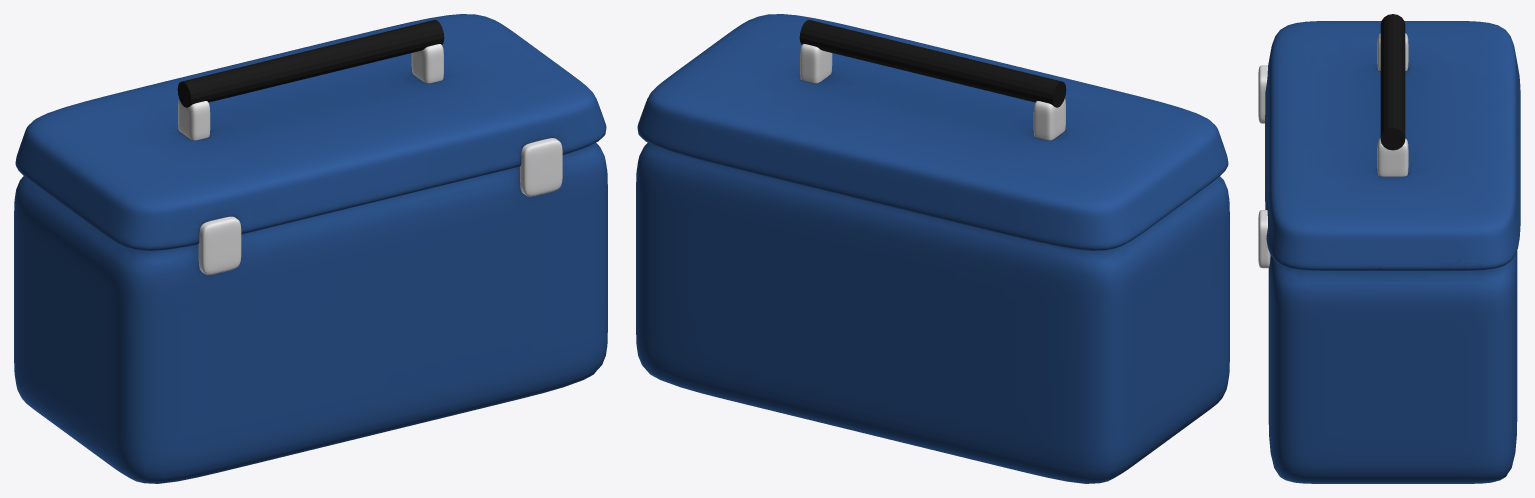
The model's file is blue-worn.glb.
The picture shows the model from 3 angles, left to right: view 1: azimuth 30°, elevation 25°; view 2: azimuth 150°, elevation 25°; view 3: azimuth 270°, elevation 25°; orthographic projection. The views are drawn at different scales.
Parts seen in each view (by area): view 1: paint_primary, grip, chrome_tool; view 2: paint_primary, grip, chrome_tool; view 3: paint_primary, grip, chrome_tool.
Part boxes in pixels (left/top/right/bottom): paint_primary: left=14, top=14, right=607, bottom=483; grip: left=177, top=20, right=444, bottom=107; chrome_tool: left=178, top=44, right=562, bottom=274; paint_primary: left=636, top=14, right=1229, bottom=483; grip: left=799, top=20, right=1066, bottom=107; chrome_tool: left=800, top=44, right=1065, bottom=140; paint_primary: left=1265, top=21, right=1520, bottom=483; grip: left=1380, top=14, right=1405, bottom=150; chrome_tool: left=1258, top=33, right=1408, bottom=268.
Size of the model in its own units: 0.503 by 0.337 by 0.2533.
Materials: 3 (1 with a texture image).
